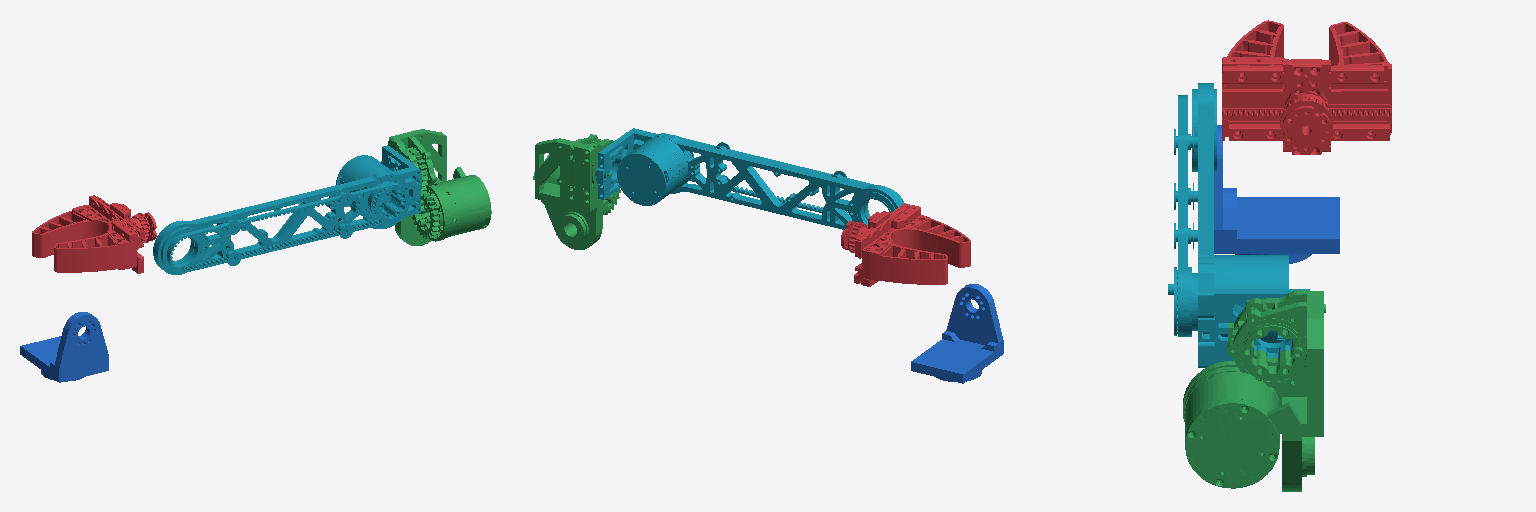
The robot description file, URDF, robot "arm_snapshot_preview":
<?xml version="1.0" encoding="utf-8"?>
<!--
  robot: arm_snapshot_preview | consumer: generic URDF geometry/kinematics review
  status: PREVIEW, NOT CONTROL-READY OR DYNAMICS-READY
  units: meters, kilograms, seconds, radians; all STL coordinates are meters
  source: isolated CAD copy in ../cad; original component transforms and six
    top-level RefAxis features in ../planning/assembly_snapshot.json
  zero pose: original snapshot explicitly confirmed by the user; do NOT replace
    it with the re-solved CAD pose, which shifts the wrist by about 20.23 mm
  root: base_link at original CAD origin; robot +X=-CAD Z, +Y=-CAD X, +Z=CAD Y
    This is a documented coordinate convention, not a surveyed mounting datum.
  link frames: link1 through link6 coincide with joint1 through joint6 at zero.
    Each origin is the closest point on its frozen CAD axis to the previous
    frame origin; these mathematical origins are not claimed flange centers.
    Frame Z follows the CAD axis endpoint order; X projects robot forward onto
    its normal plane, falling back to robot left; Y completes the right-hand frame.
  positive motion: right-hand rotation about each local +Z; CAD endpoint order
    is provisional and has NOT been checked against motor/encoder conventions.
  meshes: ../meshes/urdf/visual and ../meshes/urdf/collision; geometry in owning link frames,
    identity geometry origins, explicit scale 1 1 1; colors are review labels.
  membership: ../derived/link_membership.json; 180 displayed part instances,
    two originally hidden instances retained only in the raw geometry cache,
    12 suppressed instances excluded. Hidden solid/surface helper bodies are
    filtered using native body visibility. Every active instance is accounted for.
  boundary assumptions: structural subassemblies seed the links; J5 inner shaft
    and driven pulley are assigned to link5, J6 large output pulley to link6,
    and the loose screw to link3 using recorded mate evidence. Physical boundary
    and motion review remains required; internal transmission motion is simplified.
  inertials: populated for all seven physical links from native SolidWorks
    IMassProperty2 effective link selections after native deletion/keep-body
    removal of hidden spherical bodies 旋转1/旋转2/旋转3. Properties use
    IncludeHiddenBodiesOrComponents=false, matching the exported visible-body
    policy; assembly mass overrides are retained. Values are CAD-derived and
    still require hardware material/encoder calibration before control use.
  collision: compound component convex hulls, a conservative preview model;
    platform-specific collision decomposition and interference review are pending.
  limits: ALL lower/upper/velocity/effort values are deliberate zero placeholders.
    They lock this preview to its zero pose, are NOT actual hardware parameters,
    and MUST be replaced before controller use or full-range motion verification.
    Do not infer unlimited rotation or change these joints to continuous.
  tool0: frame-only identity alias of link6, not a calibrated TCP; no mass/geometry.
  gripper: held at the original opening and merged into link6; no gripper joints.
  canonical artifact: edit this XML directly; helper scripts compute and verify
    geometry/frames only, and do not regenerate this URDF.
-->
<robot name="arm_snapshot_preview">
  <link name="base_link">
    <inertial>
      <origin xyz="4.58815695629442e-05 0.0632969299929214 0.0217208014803871" rpy="0 0 0" />
      <mass value="0.495642465801632" />
      <inertia ixx="0.000769453047452929" ixy="-4.04879870380248e-07" ixz="-7.36957170833125e-07" iyy="0.000269203300115256" iyz="-0.000149236984375006" izz="0.000765358206795018" />
    </inertial>
    <visual>
      <origin xyz="0 0 0" rpy="0 0 0" />
      <geometry>
        <mesh filename="../meshes/urdf/visual/base_link.stl" scale="1 1 1" />
      </geometry>
      <material name="base_gray">
        <color rgba="0.34 0.39 0.45 1" />
      </material>
    </visual>
    <collision>
      <origin xyz="0 0 0" rpy="0 0 0" />
      <geometry>
        <mesh filename="../meshes/urdf/collision/base_link.stl" scale="1 1 1" />
      </geometry>
    </collision>
  </link>
  <link name="link1">
    <inertial>
      <origin xyz="2.11060675146673e-15 -0.00717052217393137 0.0187755161606351" rpy="0 0 0" />
      <mass value="0.232604768335588" />
      <inertia ixx="0.000180544455565913" ixy="1.36623596617838e-17" ixz="-1.01331067456776e-17" iyy="0.000115836467680495" iyz="4.31006487376061e-05" izz="0.000183295474603393" />
    </inertial>
    <visual>
      <origin xyz="0 0 0" rpy="0 0 0" />
      <geometry>
        <mesh filename="../meshes/urdf/visual/link1.stl" scale="1 1 1" />
      </geometry>
      <material name="joint1_blue">
        <color rgba="0.20 0.48 0.85 1" />
      </material>
    </visual>
    <collision>
      <origin xyz="0 0 0" rpy="0 0 0" />
      <geometry>
        <mesh filename="../meshes/urdf/collision/link1.stl" scale="1 1 1" />
      </geometry>
    </collision>
  </link>
  <link name="link2">
    <inertial>
      <origin xyz="0.100127711801693 6.1678178142218e-05 -0.00295714959787847" rpy="0 0 0" />
      <mass value="1.85664756754803" />
      <inertia ixx="0.00115296341026453" ixy="-3.48625676411341e-05" ixz="0.000818039378827597" iyy="0.0329714313281136" iyz="2.253280274509e-06" izz="0.0331905676210542" />
    </inertial>
    <visual>
      <origin xyz="0 0 0" rpy="0 0 0" />
      <geometry>
        <mesh filename="../meshes/urdf/visual/link2.stl" scale="1 1 1" />
      </geometry>
      <material name="joint2_orange">
        <color rgba="0.91 0.48 0.18 1" />
      </material>
    </visual>
    <collision>
      <origin xyz="0 0 0" rpy="0 0 0" />
      <geometry>
        <mesh filename="../meshes/urdf/collision/link2.stl" scale="1 1 1" />
      </geometry>
    </collision>
  </link>
  <link name="link3">
    <inertial>
      <origin xyz="0.0118172352588488 0.031868445920946 0.00835375569273789" rpy="0 0 0" />
      <mass value="0.617568886888513" />
      <inertia ixx="0.000706454619992552" ixy="5.67974042007941e-05" ixz="-0.000101824551470443" iyy="0.000566596985879" iyz="8.39757993911049e-05" izz="0.000592393054352471" />
    </inertial>
    <visual>
      <origin xyz="0 0 0" rpy="0 0 0" />
      <geometry>
        <mesh filename="../meshes/urdf/visual/link3.stl" scale="1 1 1" />
      </geometry>
      <material name="joint3_green">
        <color rgba="0.25 0.68 0.40 1" />
      </material>
    </visual>
    <collision>
      <origin xyz="0 0 0" rpy="0 0 0" />
      <geometry>
        <mesh filename="../meshes/urdf/collision/link3.stl" scale="1 1 1" />
      </geometry>
    </collision>
  </link>
  <link name="link4">
    <inertial>
      <origin xyz="-0.0270427169023361 -4.24308993463155e-05 -0.136920302569688" rpy="0 0 0" />
      <mass value="0.547458308409169" />
      <inertia ixx="0.00603555861063932" ixy="-1.97264010204602e-06" ixz="-0.000615113323527338" iyy="0.00610868810874735" iyz="-1.21201723827e-07" izz="0.000359519930964714" />
    </inertial>
    <visual>
      <origin xyz="0 0 0" rpy="0 0 0" />
      <geometry>
        <mesh filename="../meshes/urdf/visual/link4.stl" scale="1 1 1" />
      </geometry>
      <material name="joint4_cyan">
        <color rgba="0.15 0.65 0.75 1" />
      </material>
    </visual>
    <collision>
      <origin xyz="0 0 0" rpy="0 0 0" />
      <geometry>
        <mesh filename="../meshes/urdf/collision/link4.stl" scale="1 1 1" />
      </geometry>
    </collision>
  </link>
  <link name="link5">
    <inertial>
      <origin xyz="0.0193010491946475 -0.000952150163357967 0.0135746767118168" rpy="0 0 0" />
      <mass value="0.63340357035029" />
      <inertia ixx="0.000515557457981689" ixy="2.37769945479062e-06" ixz="-1.07892094716942e-05" iyy="0.00103163690944452" iyz="1.56368331859557e-05" izz="0.000809686203506673" />
    </inertial>
    <visual>
      <origin xyz="0 0 0" rpy="0 0 0" />
      <geometry>
        <mesh filename="../meshes/urdf/visual/link5.stl" scale="1 1 1" />
      </geometry>
      <material name="joint5_purple">
        <color rgba="0.60 0.38 0.78 1" />
      </material>
    </visual>
    <collision>
      <origin xyz="0 0 0" rpy="0 0 0" />
      <geometry>
        <mesh filename="../meshes/urdf/collision/link5.stl" scale="1 1 1" />
      </geometry>
    </collision>
  </link>
  <link name="link6">
    <inertial>
      <origin xyz="6.12774587064779e-08 -1.04111736008452e-07 0.0460325667565764" rpy="0 0 0" />
      <mass value="0.237312575581582" />
      <inertia ixx="0.000164030982708703" ixy="-1.33028665652903e-05" ixz="3.22942599345886e-11" iyy="0.000289654612932849" iyz="-1.03304176528469e-09" izz="0.000230008490191827" />
    </inertial>
    <visual>
      <origin xyz="0 0 0" rpy="0 0 0" />
      <geometry>
        <mesh filename="../meshes/urdf/visual/link6.stl" scale="1 1 1" />
      </geometry>
      <material name="joint6_red">
        <color rgba="0.84 0.28 0.32 1" />
      </material>
    </visual>
    <collision>
      <origin xyz="0 0 0" rpy="0 0 0" />
      <geometry>
        <mesh filename="../meshes/urdf/collision/link6.stl" scale="1 1 1" />
      </geometry>
    </collision>
  </link>
  <link name="tool0" />
  <joint name="joint1" type="revolute">
    <parent link="base_link" />
    <child link="link1" />
    <origin xyz="0 0 0" rpy="0 0 0" />
    <axis xyz="0 0 1" />
    <limit lower="0" upper="0" effort="0" velocity="0" />
  </joint>
  <joint name="joint2" type="revolute">
    <parent link="link1" />
    <child link="link2" />
    <origin xyz="0 0 0.06" rpy="1.5707963267948966 0 0" />
    <axis xyz="0 0 1" />
    <limit lower="0" upper="0" effort="0" velocity="0" />
  </joint>
  <joint name="joint3" type="revolute">
    <parent link="link2" />
    <child link="link3" />
    <origin xyz="0.4290000000000087 0.006000000000002337 0" rpy="0 0 0" />
    <axis xyz="0 0 1" />
    <limit lower="0" upper="0" effort="0" velocity="0" />
  </joint>
  <joint name="joint4" type="revolute">
    <parent link="link3" />
    <child link="link4" />
    <origin xyz="0 0.06499999999999775 0" rpy="0 1.5707963267948966 0" />
    <axis xyz="0 0 1" />
    <limit lower="0" upper="0" effort="0" velocity="0" />
  </joint>
  <joint name="joint5" type="revolute">
    <parent link="link4" />
    <child link="link5" />
    <origin xyz="0 0 -0.3157578999999999" rpy="3.141592653589793 -1.5707963267948966 0" />
    <axis xyz="0 0 1" />
    <limit lower="0" upper="0" effort="0" velocity="0" />
  </joint>
  <joint name="joint6" type="revolute">
    <parent link="link5" />
    <child link="link6" />
    <origin xyz="0 0 0.020226565847904176" rpy="0 -1.5707963267948961 0" />
    <axis xyz="0 0 1" />
    <limit lower="0" upper="0" effort="0" velocity="0" />
  </joint>
  <joint name="tool0_fixed" type="fixed">
    <parent link="link6" />
    <child link="tool0" />
    <origin xyz="0 0 0" rpy="0 0 0" />
  </joint>
</robot>

--- What the picture shows (computed from the rendered views, not written in the file) ---
Views: 3 orthographic renders of the robot side by side, from view 1: azimuth 30°, elevation 25°; view 2: azimuth 150°, elevation 25°; view 3: azimuth 270°, elevation 25°.
Model arm_snapshot_preview with 8 links and 7 joints (6 revolute, 1 fixed), rooted at base_link, posed every joint at zero.
Visible links, largest first — view 1: link4, link6, link3, link1; view 2: link4, link6, link3, link1; view 3: link3, link6, link4, link1.
Boxes of the visible links, x1=… form: link4: x1=153, y1=145, x2=420, y2=274; link6: x1=32, y1=195, x2=156, y2=273; link3: x1=388, y1=129, x2=491, y2=245; link1: x1=20, y1=312, x2=108, y2=382; link4: x1=596, y1=128, x2=903, y2=229; link6: x1=841, y1=203, x2=970, y2=286; link3: x1=533, y1=134, x2=620, y2=249; link1: x1=911, y1=284, x2=1003, y2=383; link3: x1=1183, y1=290, x2=1325, y2=491; link6: x1=1222, y1=20, x2=1391, y2=154; link4: x1=1168, y1=83, x2=1309, y2=367; link1: x1=1214, y1=125, x2=1339, y2=263.
Size in the robot's own frame: 0.509 by 0.1343 by 0.161 metres.
4 mesh visuals loaded from 7 distinct referenced files (4 binary STL); not drawn: 3 (reference not matched to a file when rendering).
